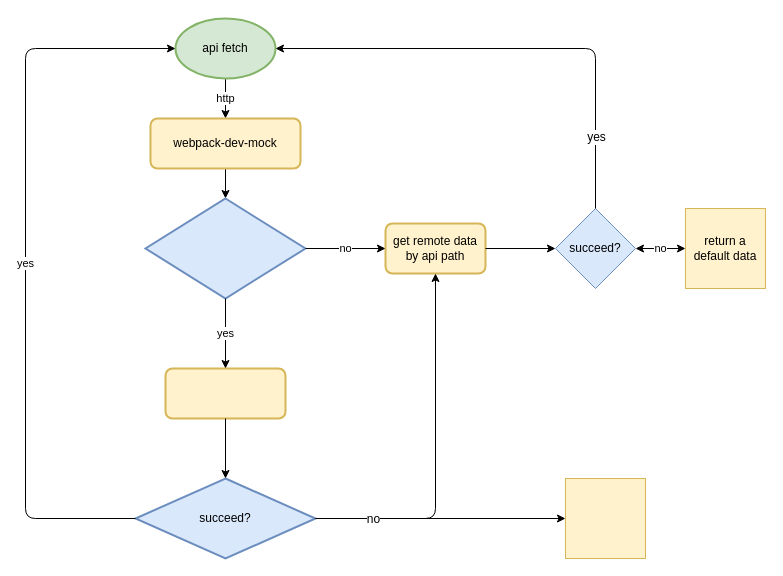
The diagram is 783 pixels wide and 576 high, and some of its shapes have lost their labels. Here are the shapes that lost their labels. From the top down, the centre of each, then its label:
point 225,248: mock=1 in page url?
point 225,393: get loacl mock data by api path
point 605,518: save remote data in local files
